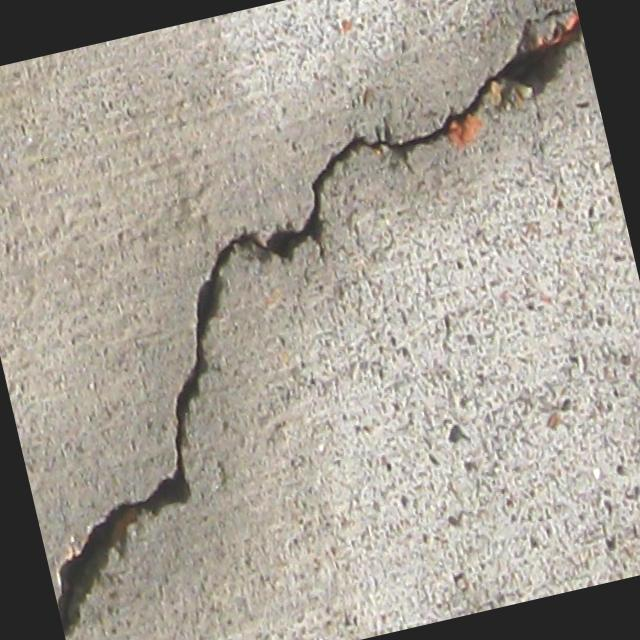crack: (180, 0, 615, 278), (107, 257, 270, 514), (36, 482, 183, 640)
